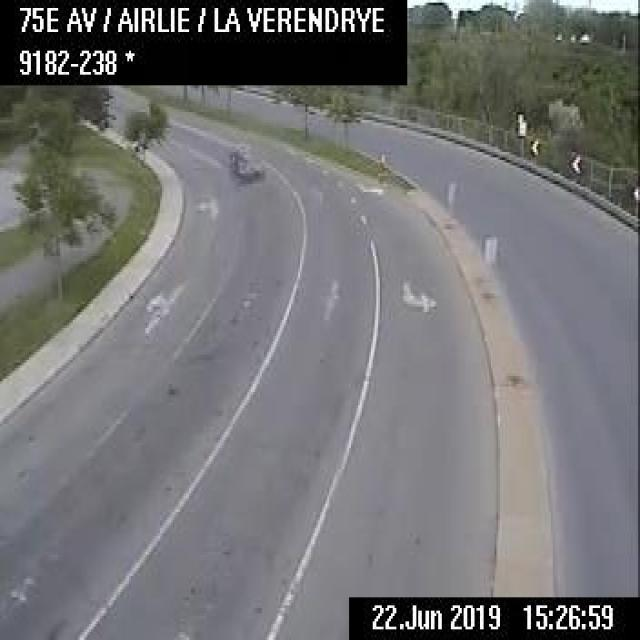vehicle: (229, 144, 260, 176)
